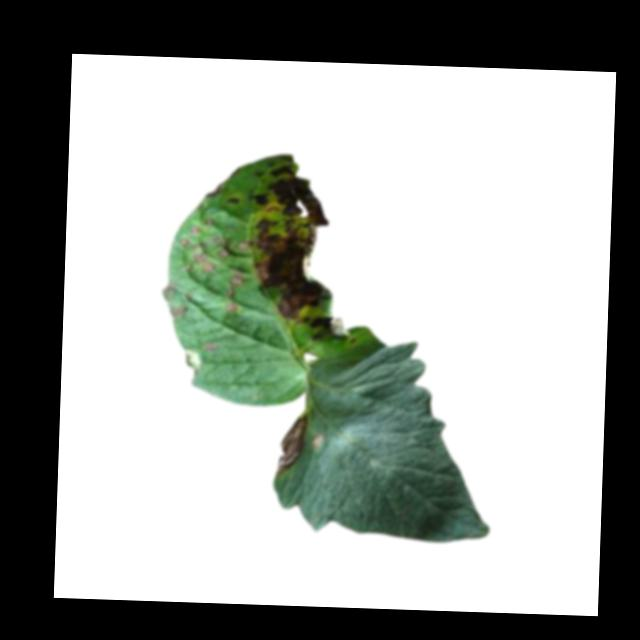Early_blight: (243, 163, 354, 338), (272, 411, 311, 477), (225, 268, 243, 314), (190, 252, 212, 274), (214, 233, 229, 260), (167, 305, 186, 320), (224, 196, 240, 207)
